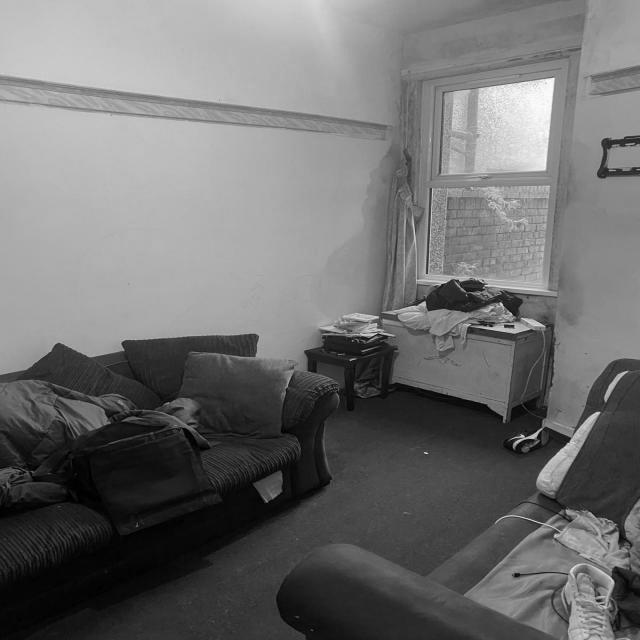stain marks: (550, 143, 640, 434), (304, 135, 406, 329), (394, 17, 609, 62)
